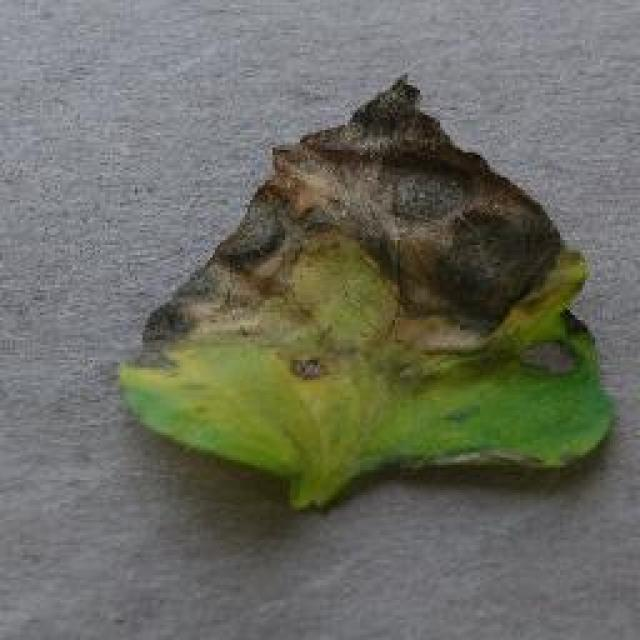Tomato___Early_blight: (112, 74, 621, 510)
